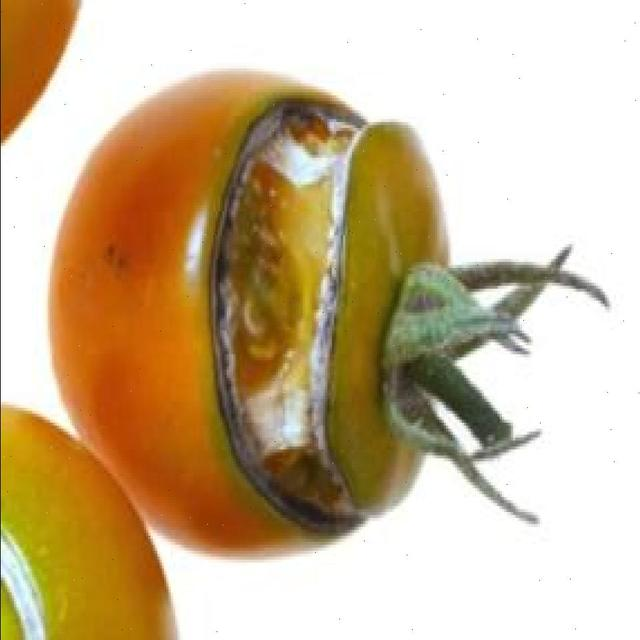Cracking Fruit: (18, 65, 206, 424)
